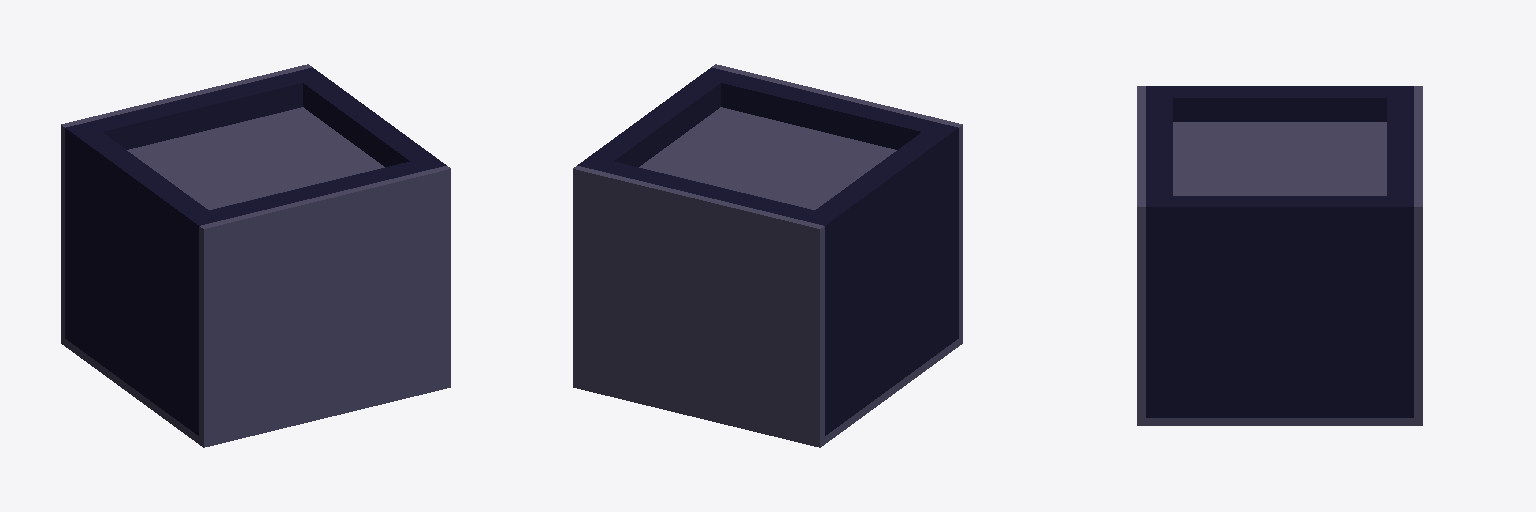
3 views of the same model, side by side, from view 1: azimuth 30°, elevation 25°; view 2: azimuth 150°, elevation 25°; view 3: azimuth 270°, elevation 25° (orthographic).
Parts seen in each view (by area): view 1: object 1; view 2: object 1; view 3: object 1.
Part boxes in pixels (bbox=[...]): object 1: bbox=[61, 64, 450, 447]; object 1: bbox=[573, 64, 962, 447]; object 1: bbox=[1137, 86, 1422, 425].
Bounding box in the file's own units: 3.2 × 2.7 × 3.2.
Materials: 1 (1 with a texture image).